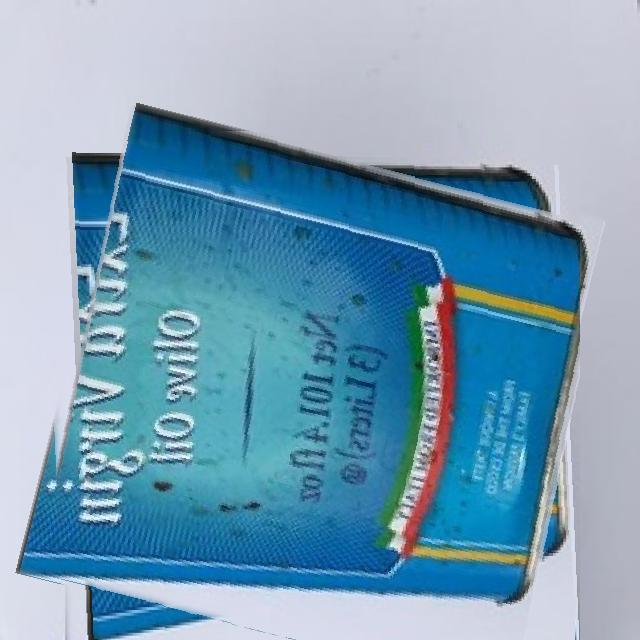recyclable: (41, 128, 580, 640)
